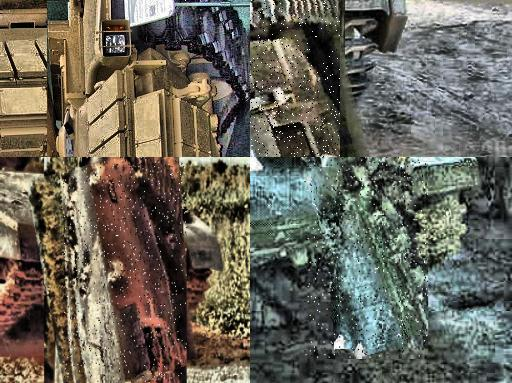tanks: (48, 1, 251, 158), (63, 159, 188, 383), (305, 159, 429, 359), (251, 1, 340, 158), (63, 379, 69, 383), (182, 1, 193, 3)
